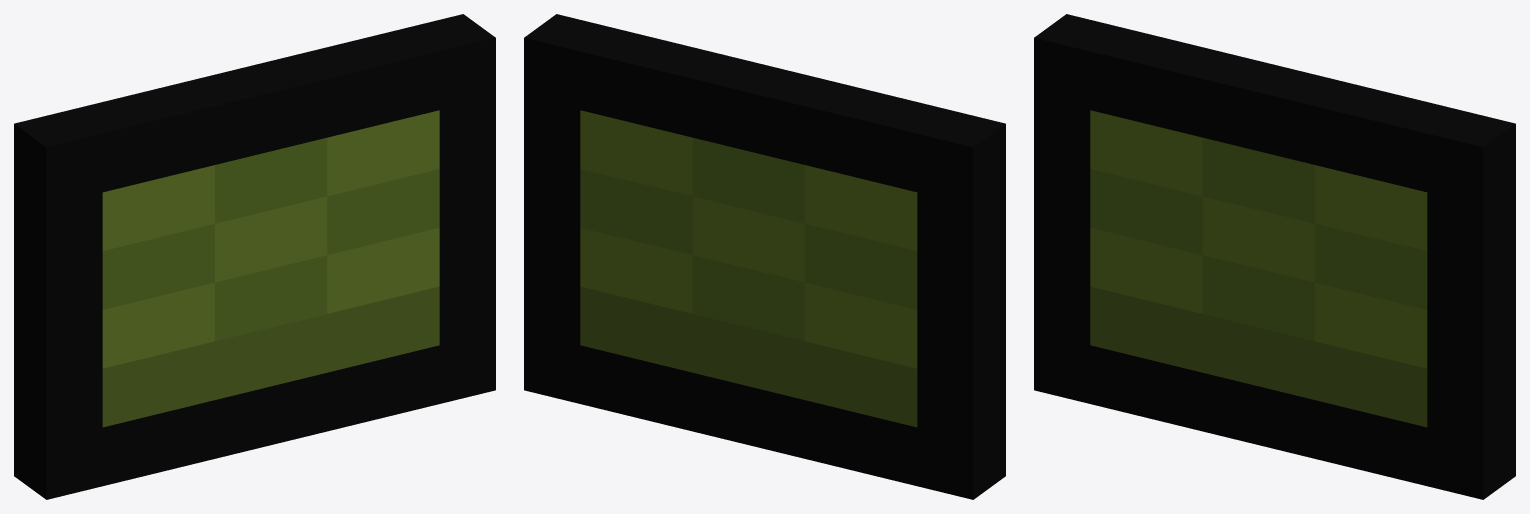
Rendered from Green Carpet.glb.
3 views of the same model, side by side, from view 1: azimuth 30°, elevation 25°; view 2: azimuth 150°, elevation 25°; view 3: azimuth 330°, elevation 25° (orthographic).
Parts seen in each view (by area): view 1: generated(Clone); view 2: generated(Clone); view 3: generated(Clone).
Boxes of the visible parts, left/top/right/bottom form: generated(Clone): left=14, top=14, right=495, bottom=499; generated(Clone): left=524, top=14, right=1005, bottom=499; generated(Clone): left=1034, top=14, right=1515, bottom=499.
Bounding box in the file's own units: 8 × 6 × 1.
1 material, 1 textured.
